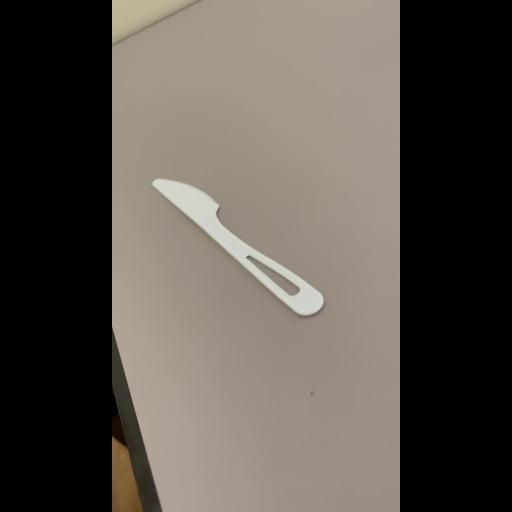utensil: (142, 176, 332, 322)
